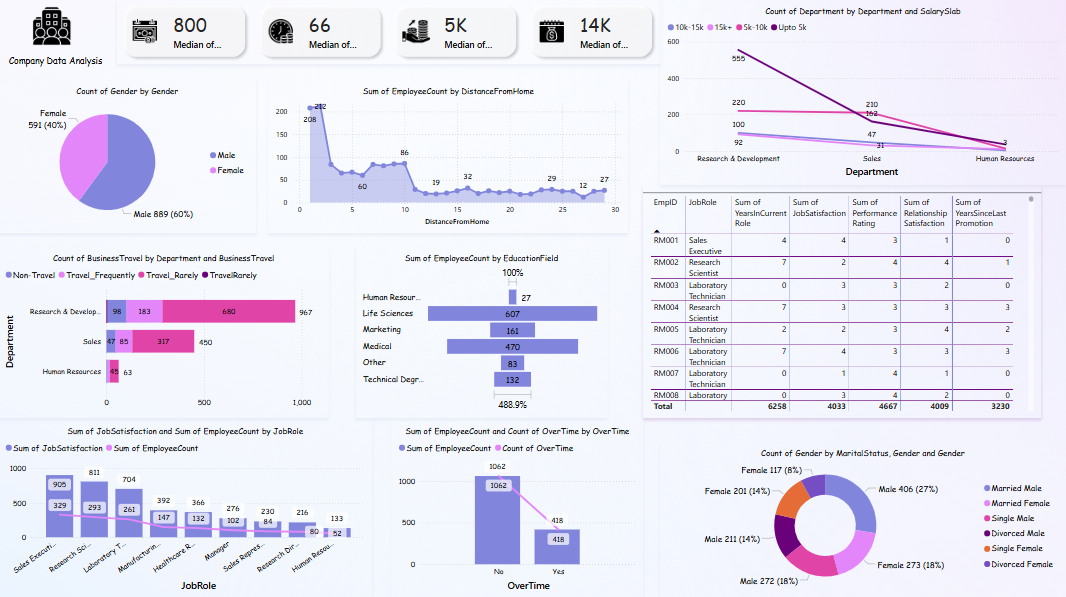

The dashboard page shown, as its layout file describes it:
{"tool":"powerbi","page":{"name":"Page 1","canvas":[1780,1000],"ordinal":0},"visuals":[{"type":"pieChart","fields":{"Category":["HR_Analytics.Gender"],"Y":["CountNonNull(HR_Analytics.Gender)"]},"box":[0,133.3,430.8,259],"z":0},{"type":"donutChart","fields":{"Category":["HR_Analytics.MaritalStatus","HR_Analytics.Gender"],"Y":["CountNonNull(HR_Analytics.Gender)"],"Series":["HR_Analytics.Gender"]},"box":[1104,736,676,264],"z":1000},{"type":"barChart","fields":{"Category":["HR_Analytics.Department"],"Y":["CountNonNull(HR_Analytics.BusinessTravel)"],"Series":["HR_Analytics.BusinessTravel"]},"box":[0,412,552,288],"z":2000},{"type":"funnel","fields":{"Category":["HR_Analytics.EducationField"],"Y":["Sum(HR_Analytics.EmployeeCount)"]},"box":[596,412,420,288],"z":3000},{"type":"lineStackedColumnComboChart","fields":{"Category":["HR_Analytics.JobRole"],"Y":["Sum(HR_Analytics.JobSatisfaction)"],"Y2":["Sum(HR_Analytics.EmployeeCount)"]},"box":[0,700,624,300],"z":4000},{"type":"lineClusteredColumnComboChart","fields":{"Category":["HR_Analytics.OverTime"],"Y":["Sum(HR_Analytics.EmployeeCount)"],"Y2":["CountNonNull(HR_Analytics.OverTime)"]},"box":[656,700,420,300],"z":5000},{"type":"lineChart","fields":{"Y":["Sum(HR_Analytics.EmployeeCount)"],"Category":["HR_Analytics.DistanceFromHome"]},"box":[451.3,133.3,600,259],"z":6000},{"type":"lineChart","fields":{"Series":["HR_Analytics.SalarySlab"],"Category":["HR_Analytics.Department"],"Y":["CountNonNull(HR_Analytics.Department)"]},"box":[1104,0,676,312],"z":7000},{"type":"tableEx","fields":{"Values":["HR_Analytics.EmpID","HR_Analytics.JobRole","Sum(HR_Analytics.YearsInCurrentRole)","Sum(HR_Analytics.JobSatisfaction)","Sum(HR_Analytics.PerformanceRating)","Sum(HR_Analytics.RelationshipSatisfaction)","Sum(HR_Analytics.YearsSinceLastPromotion)"]},"box":[1076,312,664,388],"z":8000},{"type":"cardVisual","fields":{"Data":["Median(HR_Analytics.DailyRate)","Median(HR_Analytics.HourlyRate)","Median(HR_Analytics.MonthlyIncome)","Median(HR_Analytics.MonthlyRate)"]},"box":[197.4,0,907.7,110.3],"z":9000},{"type":"shape","box":[9.9,7.9,176.2,115.8],"z":9001},{"type":"image","box":[50.5,7.9,79.2,79.2],"z":9002}]}

Visuals, with their boxes in screenshot pixels (x1, y1, x2, y2), scaled from the page's 1780x1000 canvas onto the 1066x597 screenshot:
pieChart - HR_Analytics.Gender x CountNonNull(HR_Analytics.Gender): [x1=0, y1=80, x2=258, y2=234]
donutChart - HR_Analytics.MaritalStatus x HR_Analytics.Gender: [x1=661, y1=439, x2=1065, y2=596]
barChart - HR_Analytics.Department x CountNonNull(HR_Analytics.BusinessTravel): [x1=0, y1=246, x2=331, y2=418]
funnel - HR_Analytics.EducationField x Sum(HR_Analytics.EmployeeCount): [x1=357, y1=246, x2=608, y2=418]
lineStackedColumnComboChart - HR_Analytics.JobRole x Sum(HR_Analytics.JobSatisfaction): [x1=0, y1=418, x2=374, y2=596]
lineClusteredColumnComboChart - HR_Analytics.OverTime x Sum(HR_Analytics.EmployeeCount): [x1=393, y1=418, x2=644, y2=596]
lineChart - Sum(HR_Analytics.EmployeeCount) x HR_Analytics.DistanceFromHome: [x1=270, y1=80, x2=630, y2=234]
lineChart - HR_Analytics.SalarySlab x HR_Analytics.Department: [x1=661, y1=0, x2=1065, y2=186]
tableEx - HR_Analytics.EmpID x HR_Analytics.JobRole: [x1=644, y1=186, x2=1042, y2=418]
cardVisual - Median(HR_Analytics.DailyRate) x Median(HR_Analytics.HourlyRate): [x1=118, y1=0, x2=662, y2=66]
shape: [x1=6, y1=5, x2=111, y2=74]
image: [x1=30, y1=5, x2=78, y2=52]
